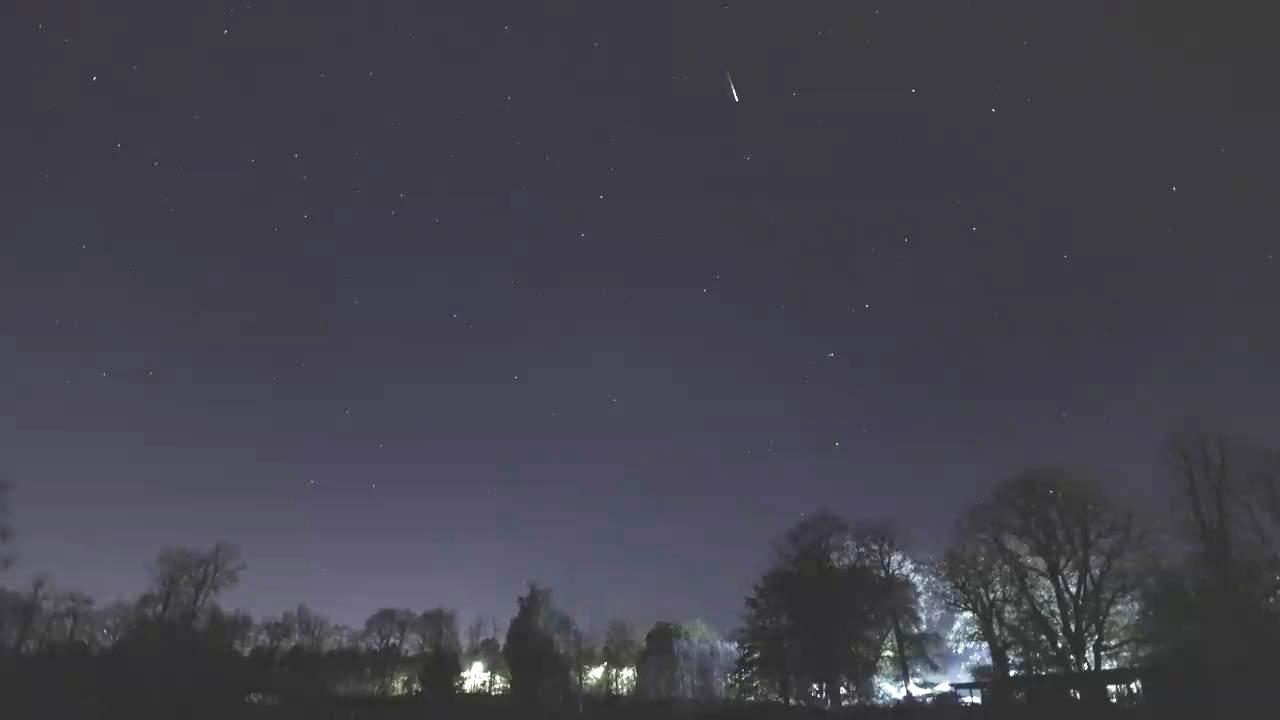meteorite: (670, 69, 788, 106)
